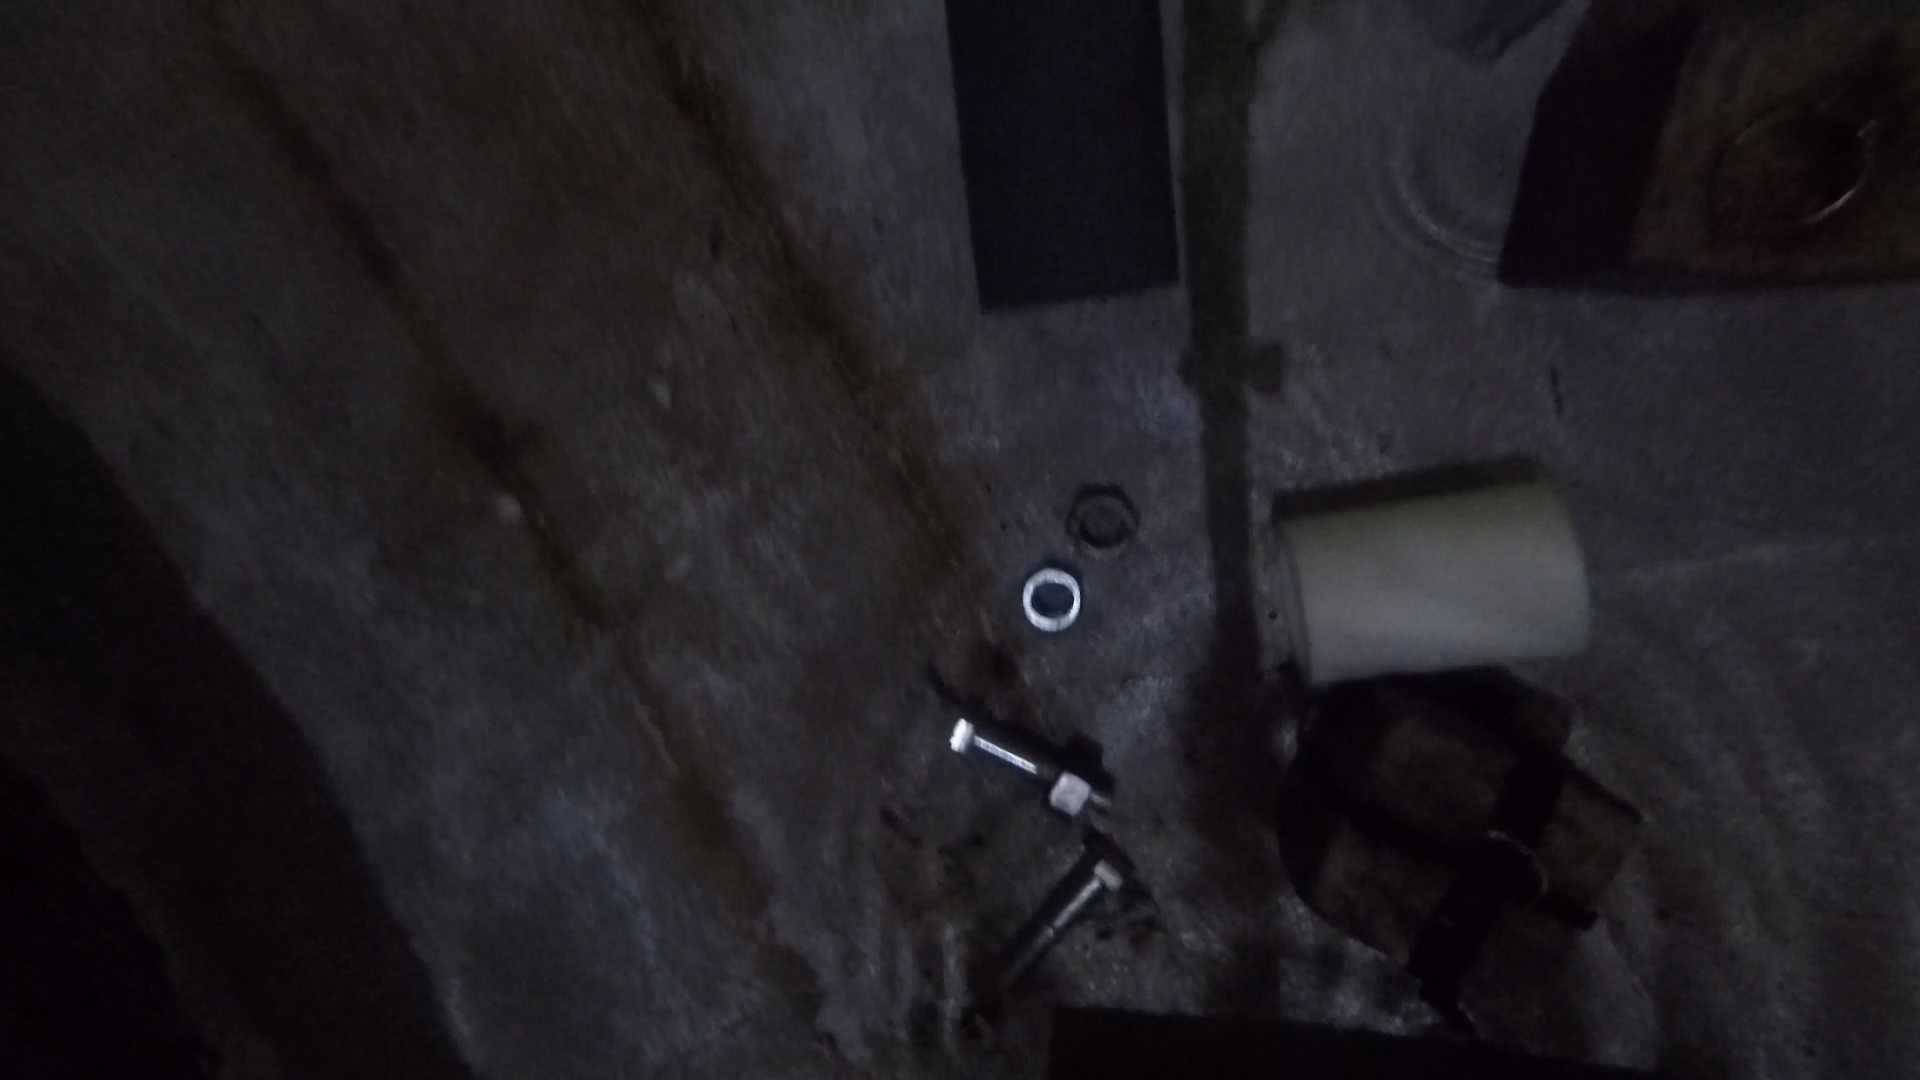bolt: (1271, 476, 1589, 687), (993, 845, 1124, 996), (949, 713, 1116, 815)
led_block: (1497, 1, 1919, 291), (1276, 691, 1643, 1019)
nut: (1068, 487, 1139, 567), (1043, 744, 1098, 825), (1021, 564, 1085, 634)
pipe: (943, 1, 1182, 315)
